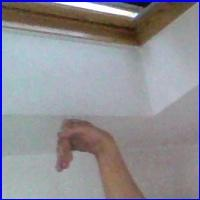del: (40, 109, 129, 180)
